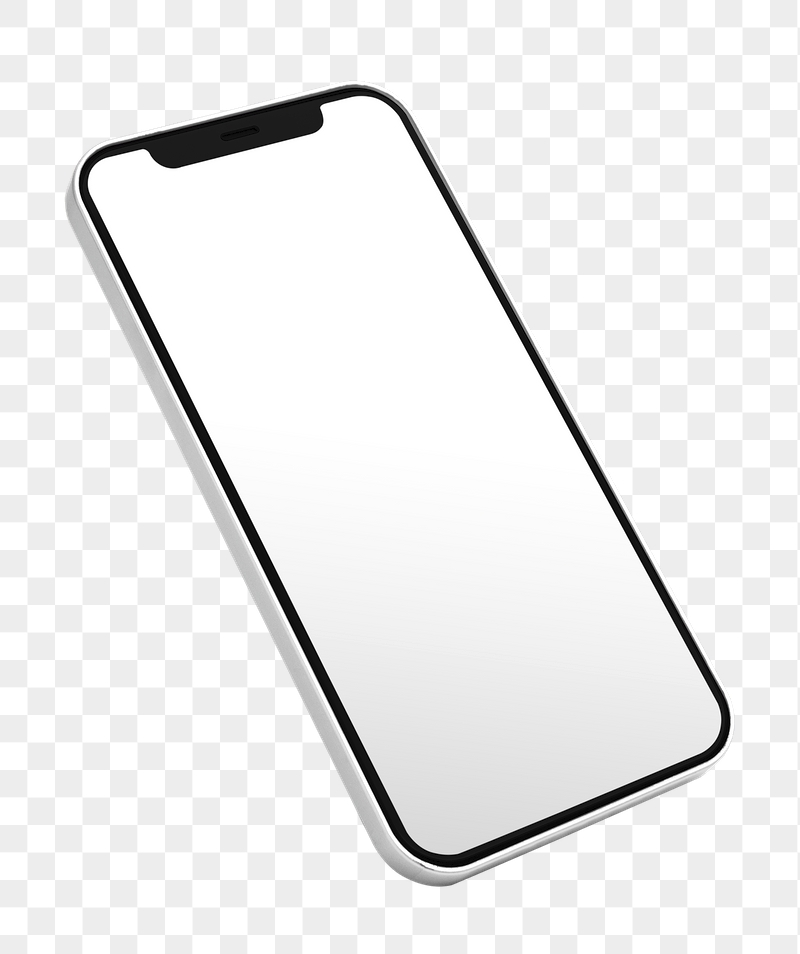phone: (42, 79, 766, 884)
